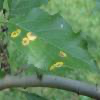Apple rust leaf: (5, 6, 100, 76)
